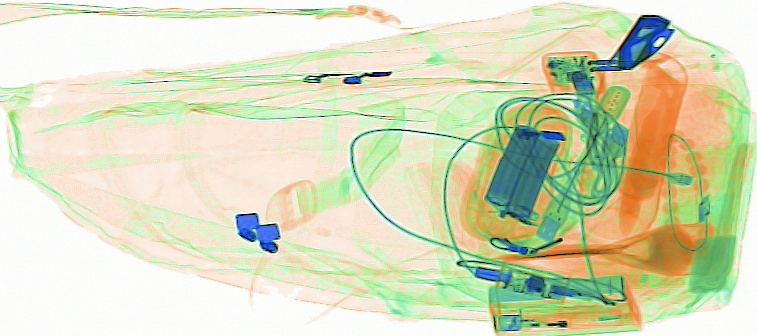lighter: (495, 302, 622, 334)
powerbank: (484, 121, 565, 227)
